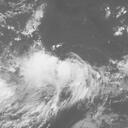cyclone: (22, 42, 100, 117)
